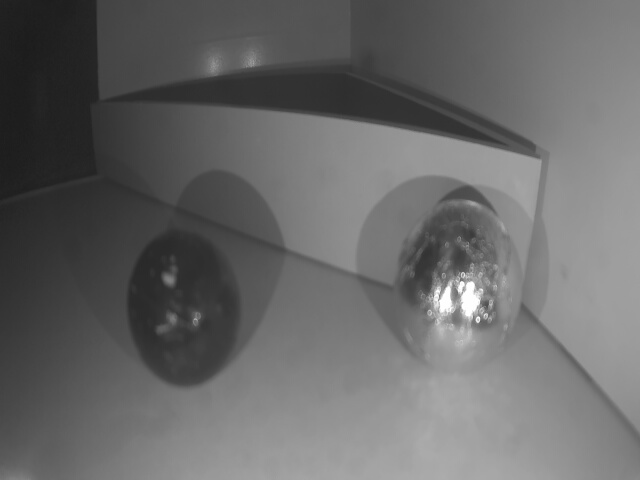Dead: (125, 232, 241, 385)
Live: (396, 196, 525, 377)
Red: (90, 101, 544, 319)
